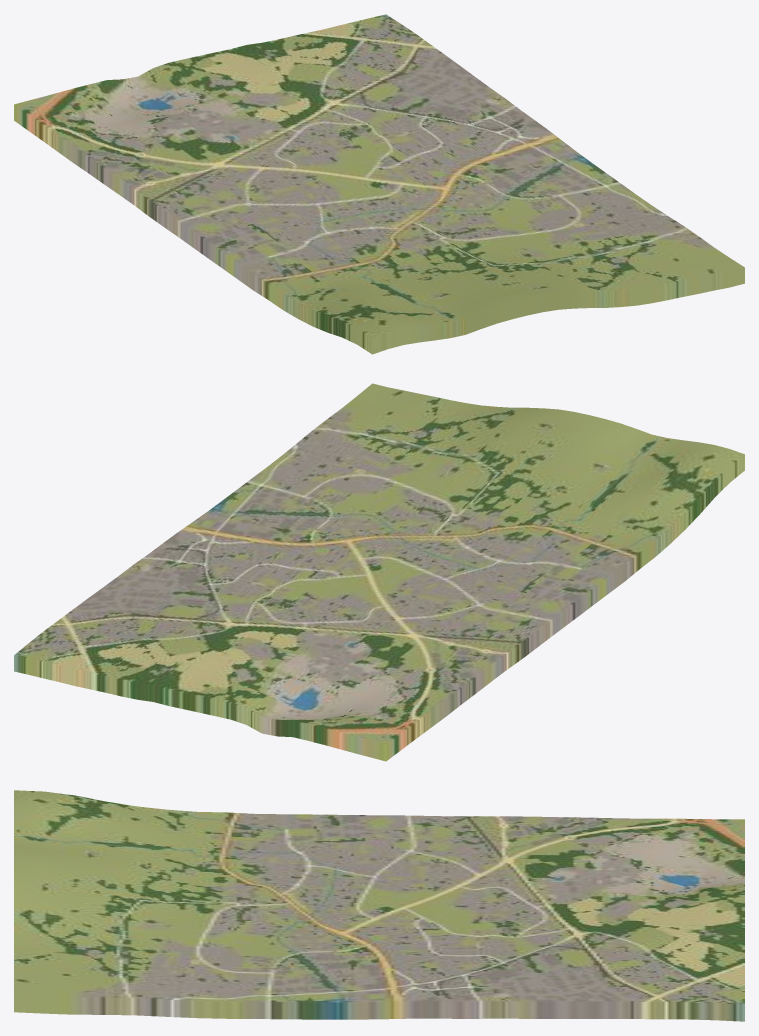
3 views of the same model, one above another, from view 1: azimuth 30°, elevation 25°; view 2: azimuth 150°, elevation 25°; view 3: azimuth 270°, elevation 25° (orthographic).
Size of the model in its own units: 2933 by 369 by 4891.
1 material, 1 textured.
